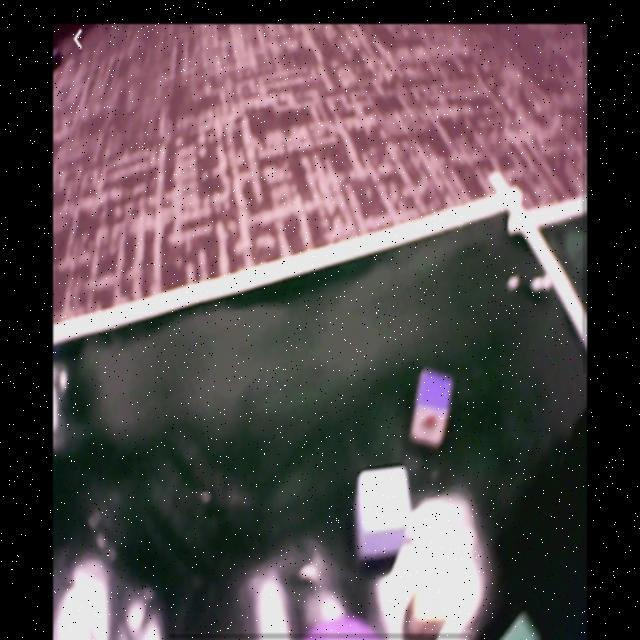ball: (304, 617, 379, 638)
